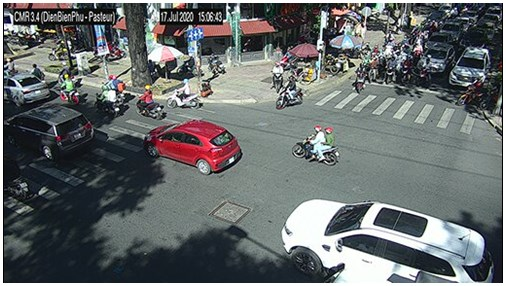xe_hoi: (280, 199, 494, 282), (142, 119, 243, 175), (6, 106, 95, 159), (449, 47, 491, 86), (5, 72, 52, 105), (423, 42, 455, 74), (442, 21, 463, 42), (427, 32, 450, 50)
xe_may: (292, 124, 340, 166), (4, 153, 29, 198), (166, 78, 200, 111), (136, 84, 163, 120), (275, 76, 303, 110), (94, 84, 120, 117), (458, 78, 482, 108), (102, 74, 125, 102), (61, 74, 79, 105), (354, 62, 366, 94), (419, 58, 432, 87), (59, 63, 76, 85), (386, 55, 398, 84), (368, 56, 379, 82), (401, 55, 410, 84)
